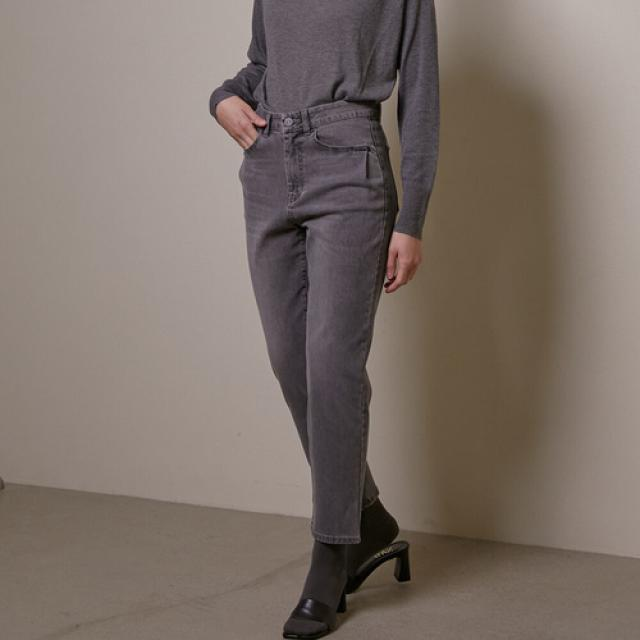dress: (246, 105, 396, 549)
